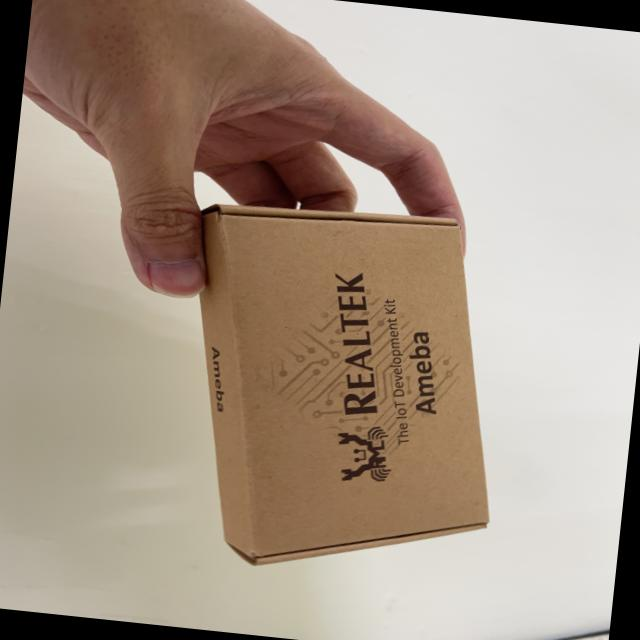box: (153, 183, 548, 599)
